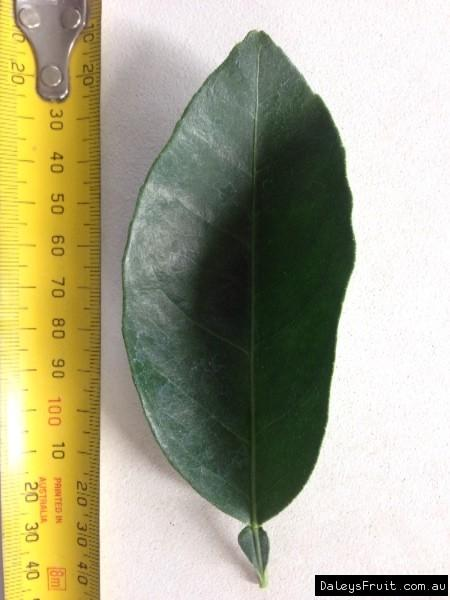Healthy Citrus: (121, 24, 357, 546)
